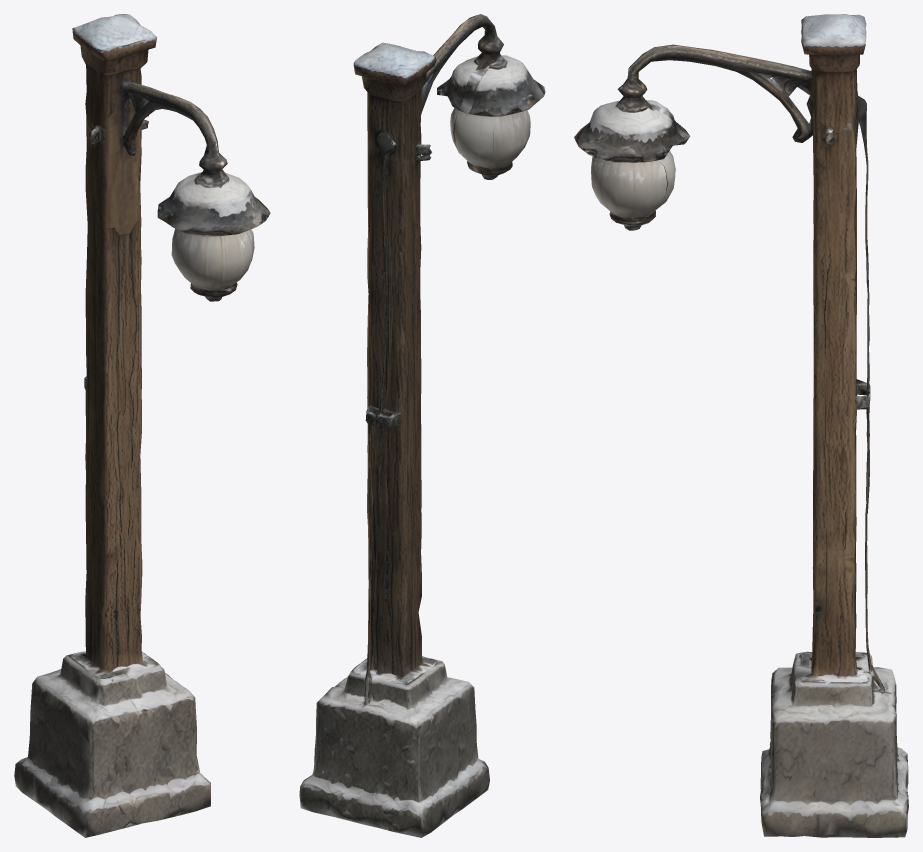
Rendered from PR_ElectricLamp.fbx.
3 views of the same model, side by side, from view 1: azimuth 30°, elevation 25°; view 2: azimuth 150°, elevation 25°; view 3: azimuth 270°, elevation 25° (orthographic). The views are drawn at different scales.
Parts seen in each view (by area): view 1: texture_mapping; view 2: texture_mapping; view 3: texture_mapping.
Part boxes in pixels (box(x1,y1,x2,y2)): texture_mapping: box(14, 14, 270, 837); texture_mapping: box(299, 14, 545, 837); texture_mapping: box(574, 14, 908, 837).
Size of the model in its own units: 0.1748 by 0.3836 by 0.9989.
Materials: 1 (1 with a texture image).
